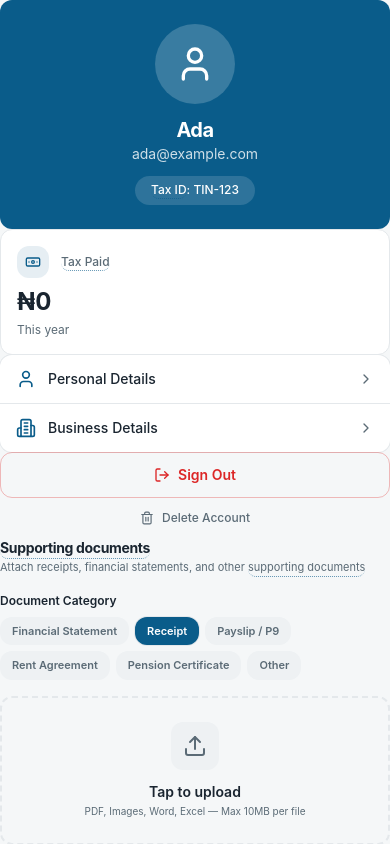
app-wide glossary coverage › annotates shared domain content without annotating user document names
The image size is (390, 844).
Expected: the button with aria-label "Learn about Tax ID" is shown, x1=151 y1=182 x2=187 y2=199
Expected: the button with aria-label "Learn about Tax paid" is shown, x1=61 y1=254 x2=110 y2=270
Click the button "Delete Account" at [195, 518], box x1=0 y1=498 x2=389 y2=538
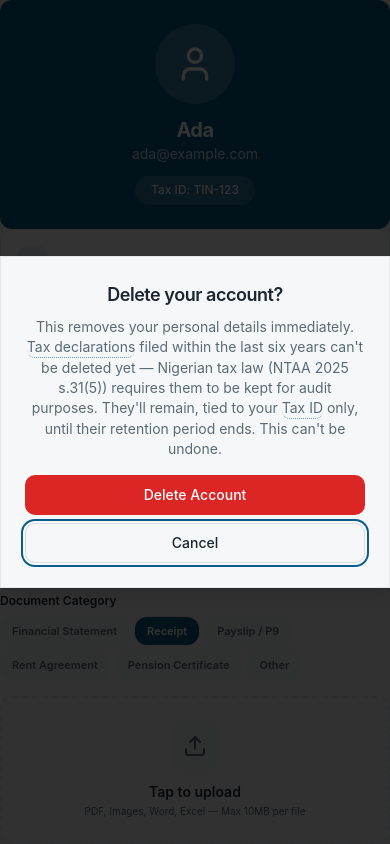
Result: the button with aria-label "Learn about Tax declaration" is shown at x1=27 y1=337 x2=135 y2=358
